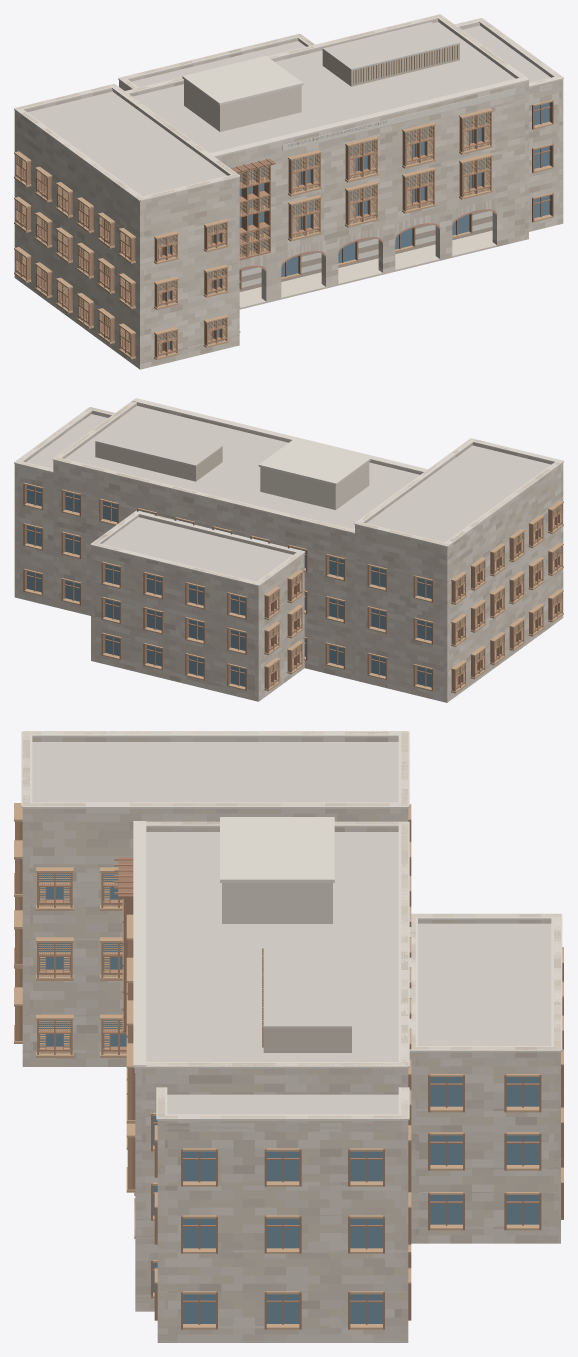
The model's file is auc_hatem_janet_core_v1.glb.
3 views of the same model, one above another, from view 1: azimuth 30°, elevation 25°; view 2: azimuth 150°, elevation 25°; view 3: azimuth 270°, elevation 25° (orthographic). The views are drawn at different scales.
Visible parts, largest first — view 1: roof, stone0, wood_light, stone1, cream, wood, stone4, stone2, stone5, stone3, glass, wood_dark (+4 smaller); view 2: roof, stone0, stone1, stone4, stone2, cream, stone5, wood_light, stone3, wood_dark, glass, wood (+2 smaller); view 3: roof, stone0, stone1, cream, stone4, glass, stone2, stone5, wood_light, stone3, wood_dark, wood (+2 smaller).
Part boxes in pixels (<box>): roof: <box>15,22,559,206</box>; stone0: <box>14,14,563,358</box>; wood_light: <box>14,45,553,359</box>; stone1: <box>14,15,563,369</box>; cream: <box>14,14,563,287</box>; wood: <box>15,112,491,357</box>; stone4: <box>14,14,563,364</box>; stone2: <box>14,31,563,366</box>; stone5: <box>14,21,563,360</box>; stone3: <box>14,19,563,369</box>; glass: <box>109,102,549,350</box>; wood_dark: <box>29,100,553,356</box>; roof: <box>23,406,551,590</box>; stone0: <box>14,404,563,702</box>; stone1: <box>14,401,563,698</box>; stone4: <box>14,411,563,697</box>; stone2: <box>14,407,563,687</box>; cream: <box>14,398,563,586</box>; stone5: <box>14,421,563,702</box>; wood_light: <box>23,483,563,693</box>; stone3: <box>14,411,563,701</box>; wood_dark: <box>23,482,549,690</box>; glass: <box>27,485,431,687</box>; wood: <box>264,504,562,691</box>; roof: <box>23,742,560,1129</box>; stone0: <box>22,731,560,1334</box>; stone1: <box>22,731,560,1342</box>; cream: <box>21,731,562,1120</box>; stone4: <box>22,731,560,1342</box>; glass: <box>39,873,539,1323</box>; stone2: <box>22,731,560,1334</box>; stone5: <box>22,731,560,1342</box>; wood_light: <box>14,803,563,1329</box>; stone3: <box>22,731,560,1342</box>; wood_dark: <box>19,804,563,1329</box>; wood: <box>15,821,135,1189</box>.
Size of the model in its own units: 52.32 by 19.45 by 34.22.
